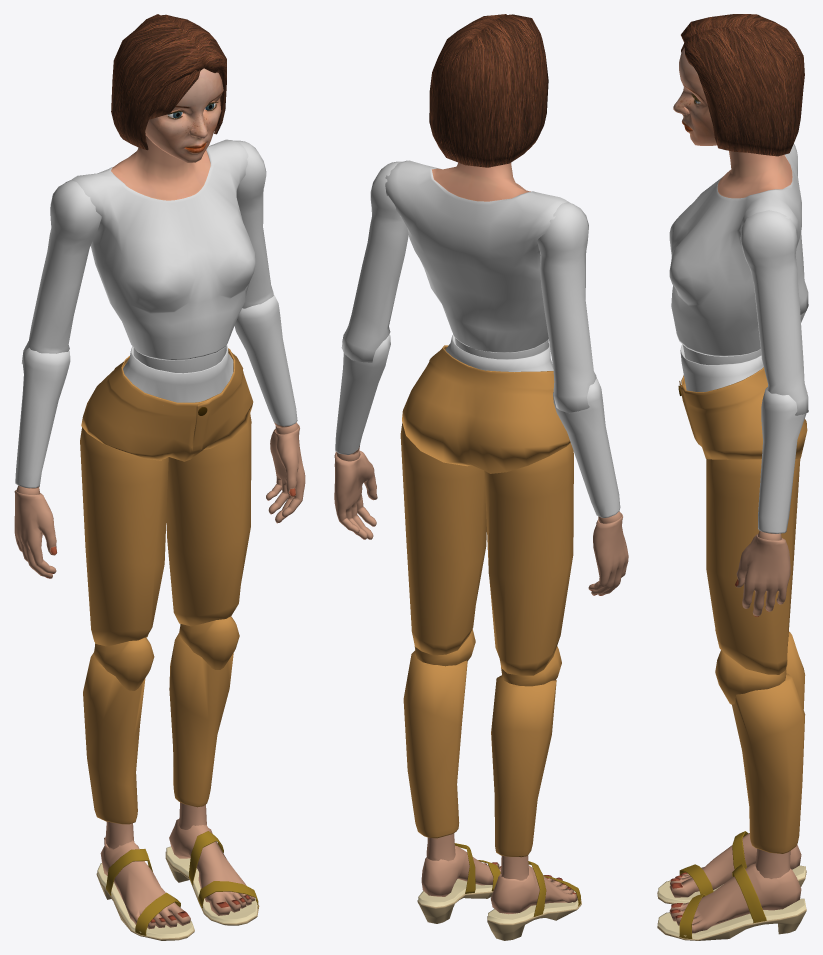
The model's file is people4.glb.
3 renders of one model, left to right at view 1: azimuth 30°, elevation 25°; view 2: azimuth 150°, elevation 25°; view 3: azimuth 270°, elevation 25°, orthographic.
Parts seen in each view (by area): view 1: sweethome3d_mannequin_pelvis; view 2: sweethome3d_mannequin_pelvis; view 3: sweethome3d_mannequin_pelvis.
Boxes of the visible parts, x1,y1,x2,y2 form: sweethome3d_mannequin_pelvis: (14, 14, 305, 940); sweethome3d_mannequin_pelvis: (334, 14, 628, 940); sweethome3d_mannequin_pelvis: (657, 14, 808, 940).
Bounding box in the file's own units: 0.3345 × 0.9999 × 0.1532.
23 materials, 8 textured.
